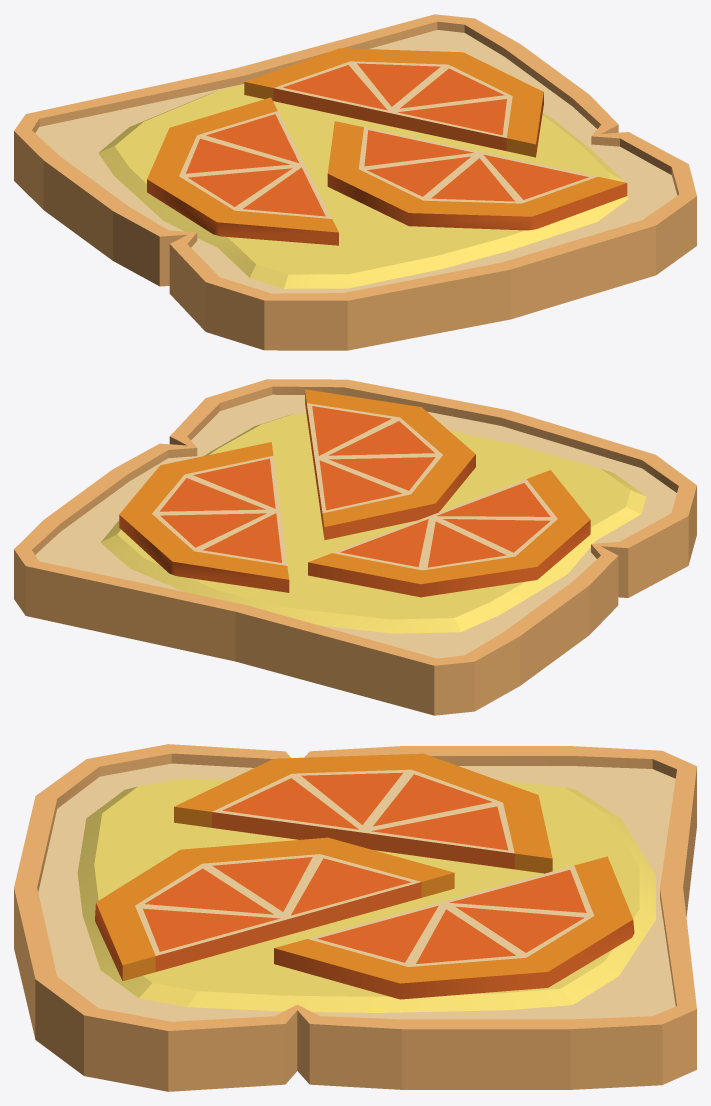
Rendered from PW_frenchtoast_orange.fbx.
The picture shows the model from 3 angles, top to bottom: view 1: azimuth 30°, elevation 25°; view 2: azimuth 150°, elevation 25°; view 3: azimuth 270°, elevation 25°; orthographic projection. The views are drawn at different scales.
Parts seen in each view (by area): view 1: bread, oranges, cream; view 2: bread, oranges, cream; view 3: bread, oranges, cream.
Part boxes in pixels (<box>): bread: <box>14,14,696,350</box>; oranges: <box>147,48,627,245</box>; cream: <box>98,84,628,288</box>; bread: <box>14,379,696,715</box>; oranges: <box>119,389,590,597</box>; cream: <box>100,414,646,633</box>; bread: <box>14,744,696,1091</box>; oranges: <box>95,753,634,999</box>; cream: <box>77,778,655,1012</box>.
Bounding box in the file's own units: 34.12 × 4.36 × 34.32.
Materials: 1 (1 with a texture image).
